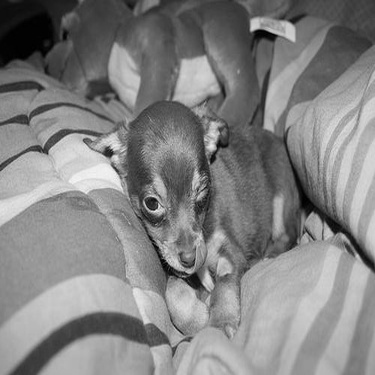dog: (68, 96, 307, 342), (33, 3, 267, 127)
